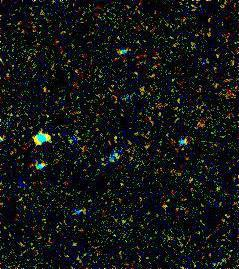star: (98, 126, 128, 156)
